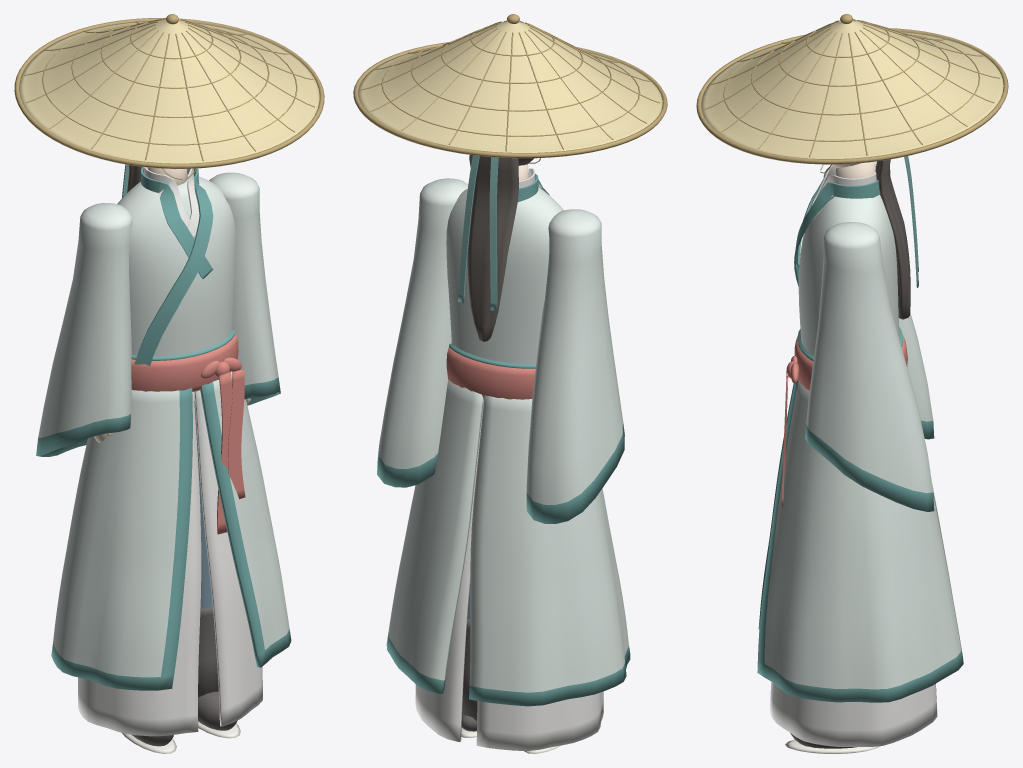
Rendered from hero.glb.
The picture shows the model from 3 angles, left to right: view 1: azimuth 30°, elevation 25°; view 2: azimuth 150°, elevation 25°; view 3: azimuth 270°, elevation 25°; orthographic projection.
Parts seen in each view (by area): view 1: hero_skirtR, hero_head, hero_torso, hero_skirtL, hero_armR, hero_armL, hero_legL, hero_sash, hero_legR; view 2: hero_skirtR, hero_head, hero_armR, hero_skirtL, hero_armL, hero_torso, hero_ribbon, hero_legL; view 3: hero_skirtL, hero_head, hero_armL, hero_torso, hero_armR, hero_legL, hero_ribbon.
Boxes of the visible parts, x1,y1,x2,y2 form: hero_skirtR: [51, 388, 201, 736]; hero_head: [14, 14, 324, 192]; hero_torso: [117, 167, 241, 401]; hero_skirtL: [195, 371, 291, 726]; hero_armR: [36, 203, 132, 456]; hero_armL: [209, 172, 280, 405]; hero_legL: [194, 401, 240, 738]; hero_sash: [217, 369, 245, 534]; hero_legR: [122, 733, 176, 753]; hero_skirtR: [469, 395, 630, 750]; hero_head: [353, 14, 667, 341]; hero_armR: [526, 209, 624, 523]; hero_skirtL: [386, 379, 483, 741]; hero_armL: [377, 178, 468, 487]; hero_torso: [446, 168, 563, 399]; hero_ribbon: [458, 155, 498, 310]; hero_legL: [461, 584, 477, 737]; hero_skirtL: [757, 379, 963, 746]; hero_head: [696, 14, 1008, 319]; hero_armL: [805, 222, 934, 511]; hero_torso: [786, 164, 907, 390]; hero_armR: [823, 167, 934, 439]; hero_legL: [785, 733, 879, 753]; hero_ribbon: [904, 156, 918, 287].
Size of the model in its own units: 0.757 by 1.92 by 0.7551.
